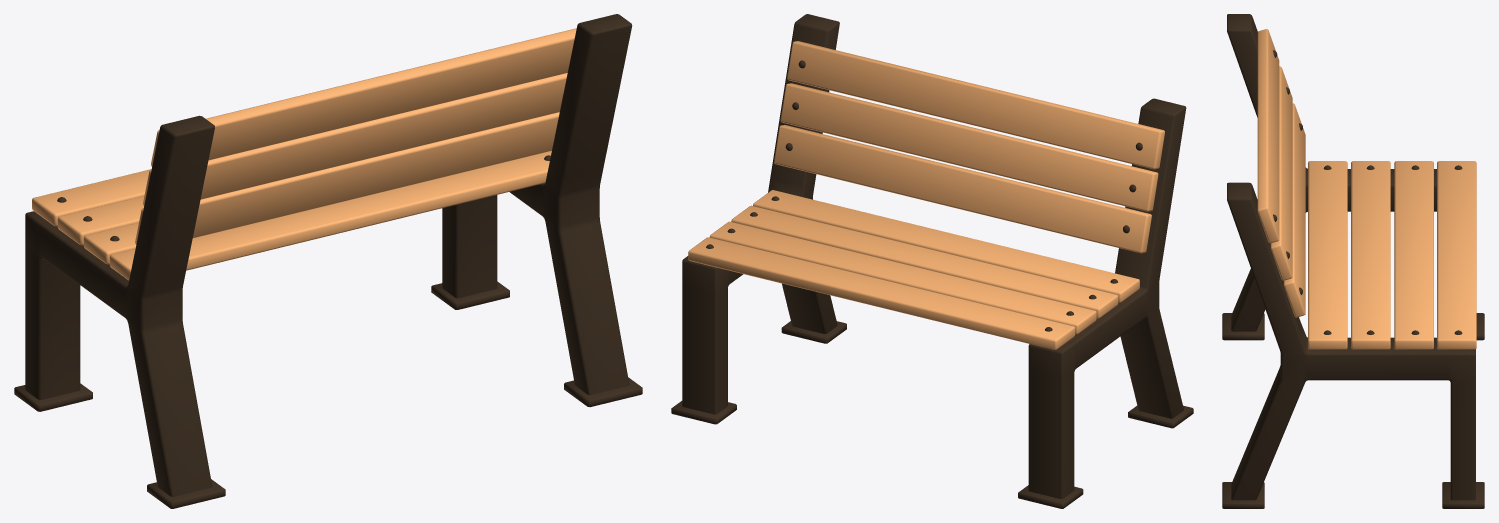
File: banco2.fbx
The picture shows the model from 3 angles, left to right: view 1: azimuth 30°, elevation 25°; view 2: azimuth 150°, elevation 25°; view 3: azimuth 270°, elevation 25°; orthographic projection. The views are drawn at different scales.
Parts seen in each view (by area): view 1: PatasBanco, Madera; view 2: Madera, PatasBanco; view 3: Madera, PatasBanco, Tornillos.
Part boxes in pixels (x1,y1,x2,y2): PatasBanco: [14, 14, 642, 508]; Madera: [32, 28, 576, 280]; Madera: [688, 41, 1164, 349]; PatasBanco: [671, 14, 1193, 508]; Madera: [1257, 29, 1476, 349]; PatasBanco: [1222, 14, 1484, 508]; Tornillos: [1273, 50, 1462, 334].
Bounding box in the file's own units: 121 × 90.73 × 70.14.
